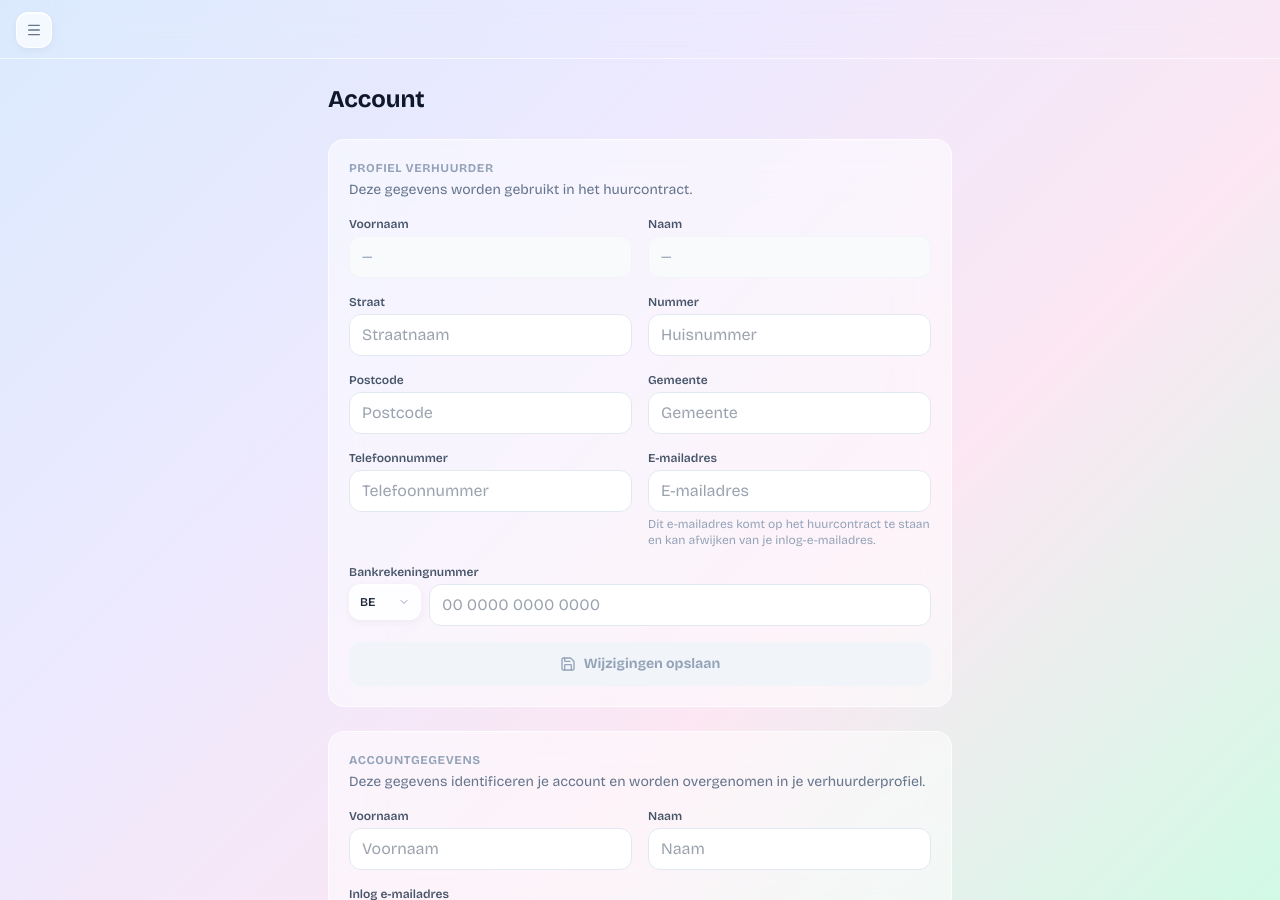
Test: AccountPage › slaat verhuurderprofiel op en toont naam/voornaam read-only in profiel verhuurder
Type "Geert" into the field labelled "Voornaam" at (490, 849), box [349,828,632,870]
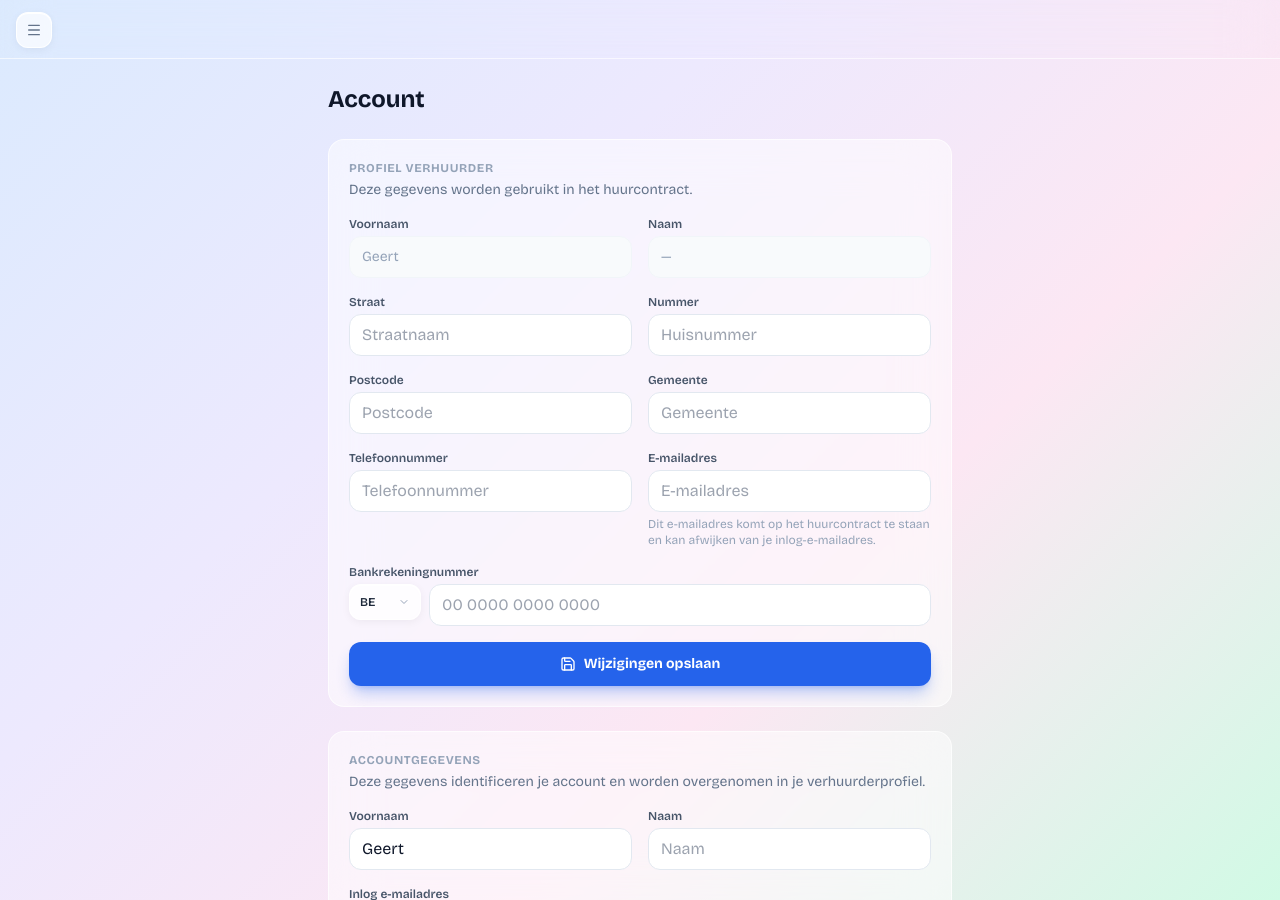
Type "Ferson" into the field labelled "Naam" at (790, 849), box [648,828,931,870]
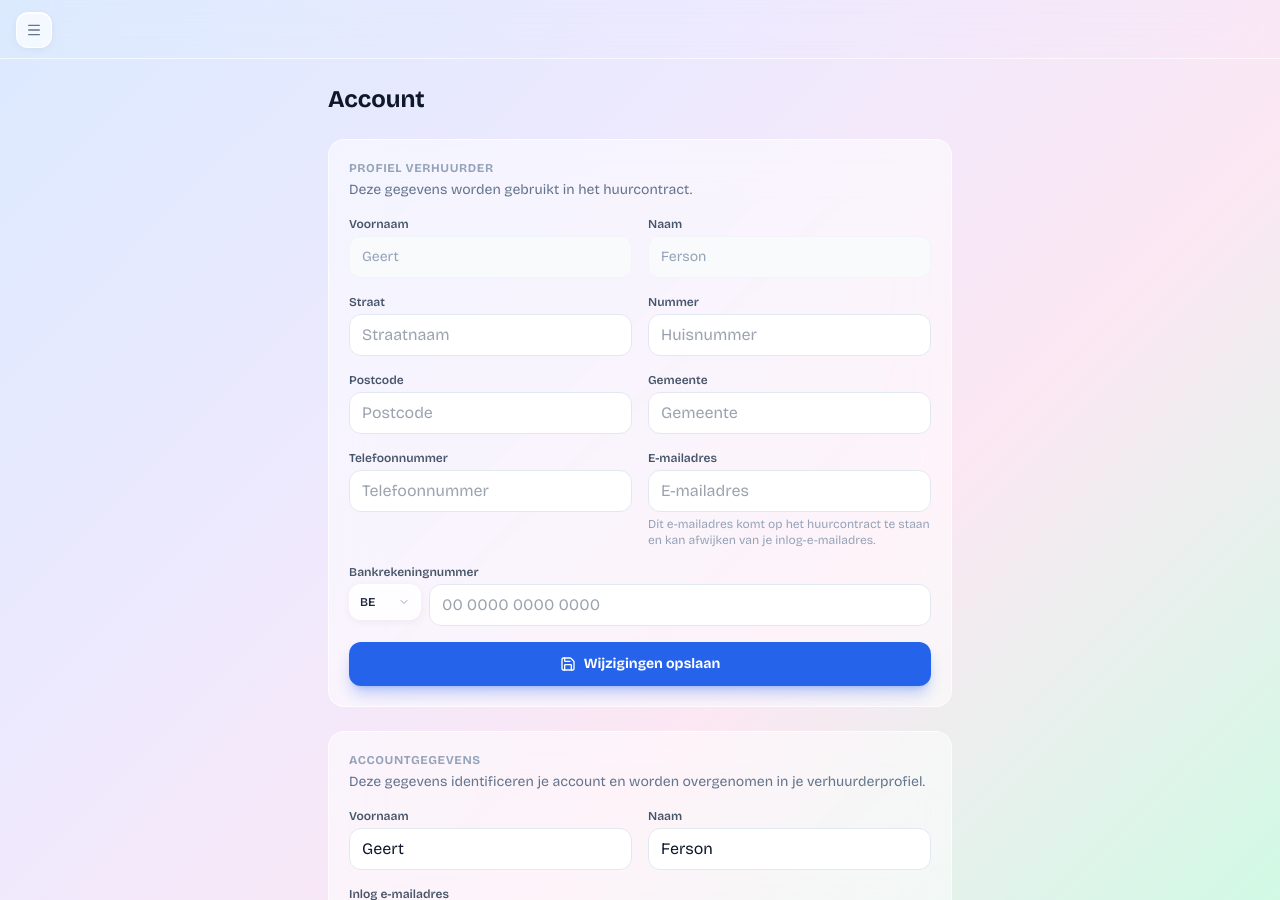
Type "12 3456 7890 1234" into the field labelled "Bankrekeningnummer" at (680, 605), box [429,584,931,626]
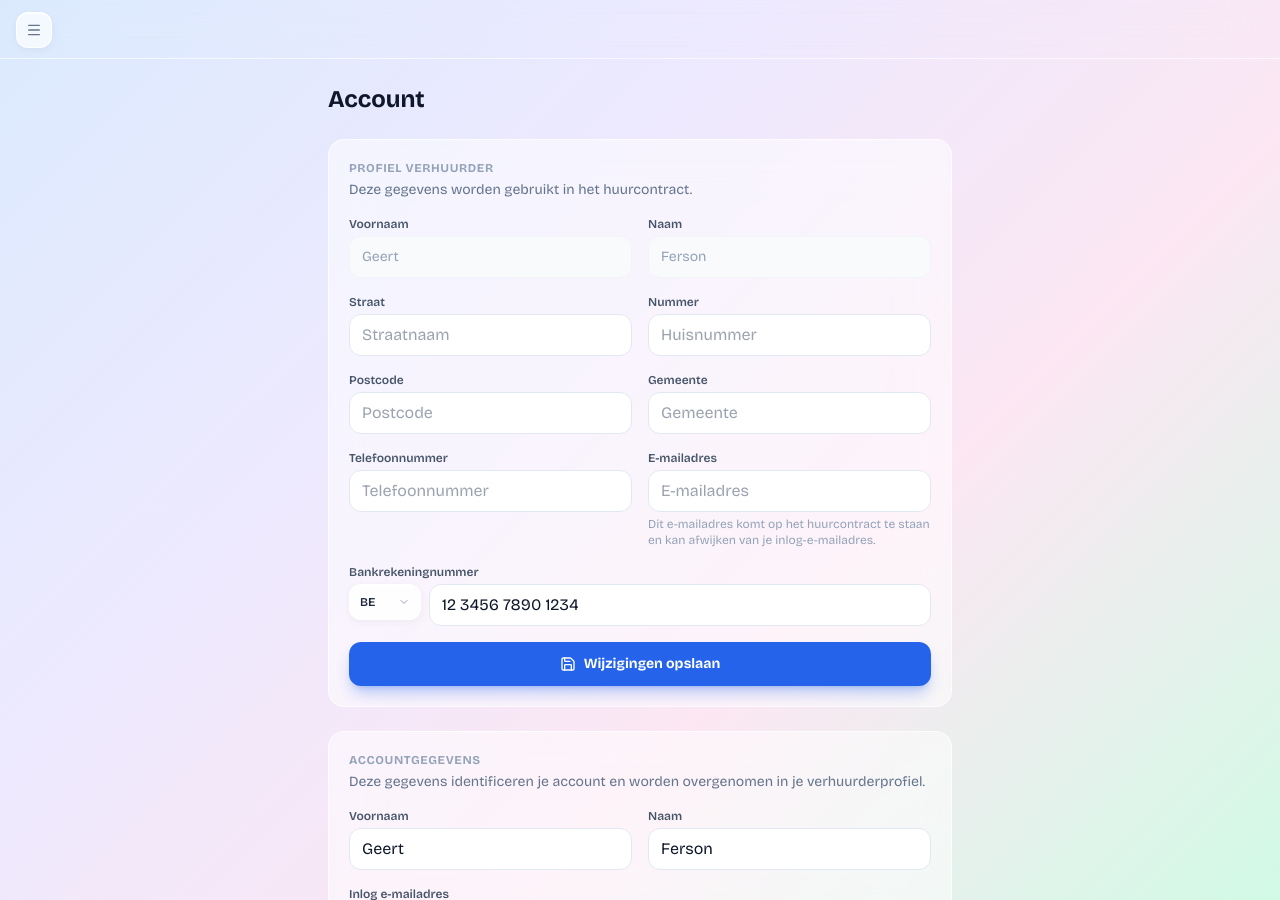
Check: the text "Geert" is shown, box [349,236,632,278]
Check: the text "Ferson" is shown, box [648,236,931,278]
Click the button "Wijzigingen opslaan" at (640, 664), box [349,642,931,686]
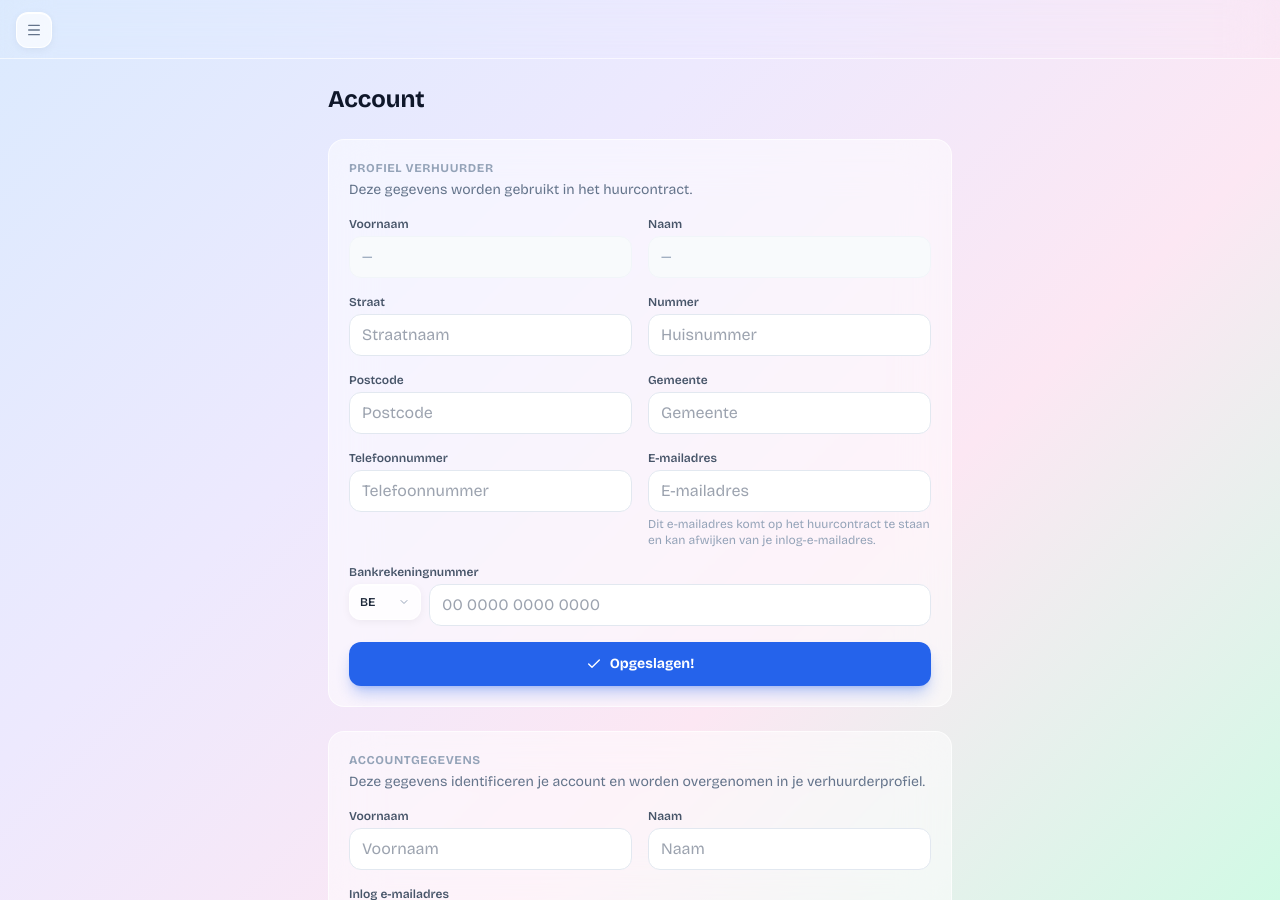
Check: the button "Opgeslagen!" is shown, box [349,642,931,686]
